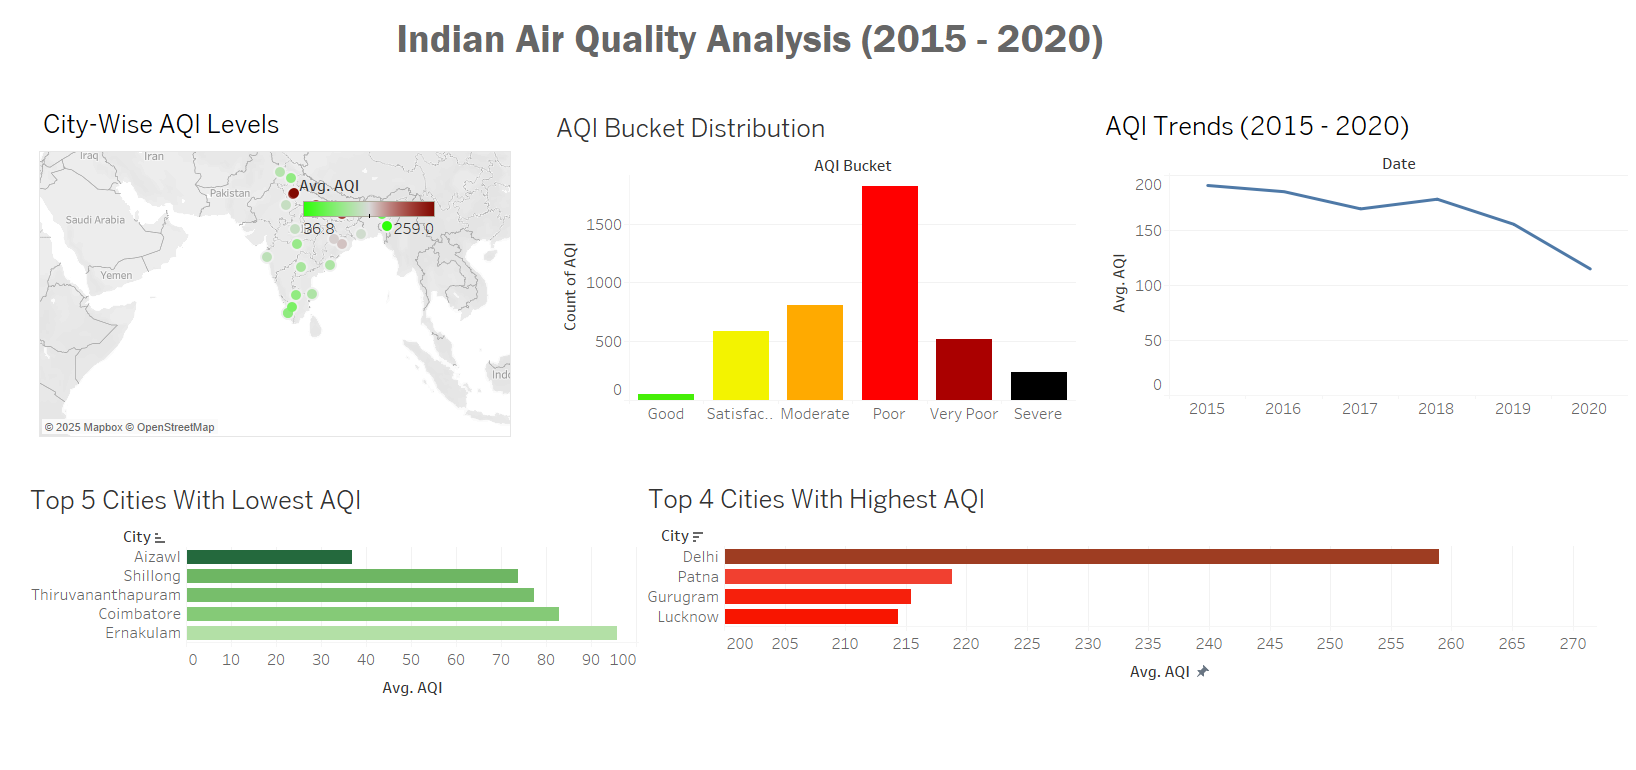

This screenshot's page, from the dashboard's own definition file:
{"tool":"tableau","page":{"name":"Dashboard 1","canvas":[1000,1000],"units":"permille","ordinal":0},"visuals":[{"type":"worksheet","title":"Sheet 4","mark":"Automatic","box":[28.4,129.9,284.9,412.1]},{"type":"worksheet","title":"Sheet 1","mark":"Line","rows":["AQI"],"cols":["Date"],"box":[669.3,132.4,318,388.6]},{"type":"worksheet","title":"Sheet 2","mark":"Automatic","rows":["AQI"],"cols":["AQI_Bucket"],"box":[338,134.9,316.2,410.9]},{"type":"legend","title":"Sheet 4","param":"[federated.1anjww20lzjfak189gy6r0fc7hyg].[avg:AQI:qk]","box":[185.3,217.8,84.5,108.9]},{"type":"worksheet","title":"Sheet 3","mark":"Automatic","rows":["City"],"cols":["AQI"],"box":[393.5,594.1,576.3,347.8]},{"type":"worksheet","title":"Sheet 5","mark":"Automatic","rows":["City"],"cols":["AQI"],"box":[20.5,595.3,369.9,346.5]}]}

Visuals, with their boxes on the dashboard's canvas, which has no fixed pixel size, in thousandths of its width and height (x1, y1, x2, y2). These are canvas units, not pixel positions in the 1636x770 screenshot, which may show the page scaled, cropped or inside an application window:
"Sheet 4" worksheet: 28,130,313,542
"Sheet 1" worksheet (Line marks): 669,132,987,521
"Sheet 2" worksheet: 338,135,654,546
"Sheet 4" legend: 185,218,270,327
"Sheet 3" worksheet: 394,594,970,942
"Sheet 5" worksheet: 20,595,390,942
